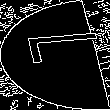L_E: (8, 36, 102, 74)
